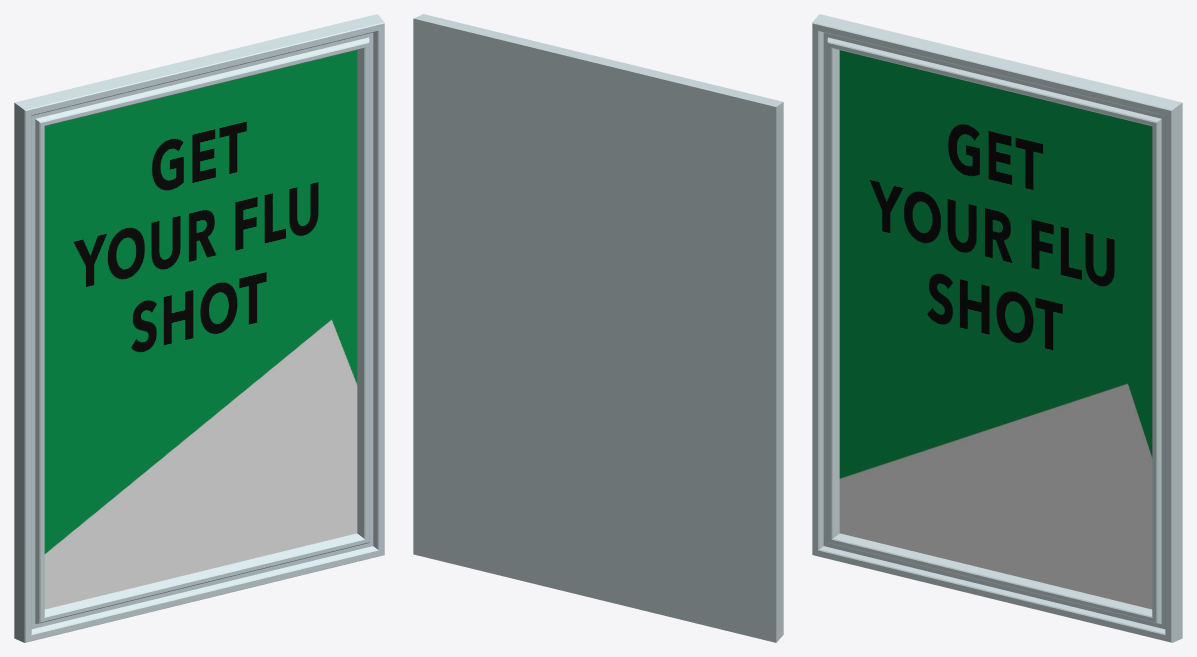
The model's file is aws_PortraitE_01_visual.DAE.
3 views of the same model, side by side, from view 1: azimuth 30°, elevation 25°; view 2: azimuth 150°, elevation 25°; view 3: azimuth 330°, elevation 25° (orthographic).
Visible parts, largest first — view 1: aws_PortraitE_01_visual; view 2: aws_PortraitE_01_visual; view 3: aws_PortraitE_01_visual.
Part boxes in pixels (<box>): aws_PortraitE_01_visual: <box>14,14,384,642</box>; aws_PortraitE_01_visual: <box>413,14,783,642</box>; aws_PortraitE_01_visual: <box>812,14,1182,642</box>.
Bounding box in the file's own units: 54.13 × 2.38 × 76.35.
2 materials, 2 textured.
